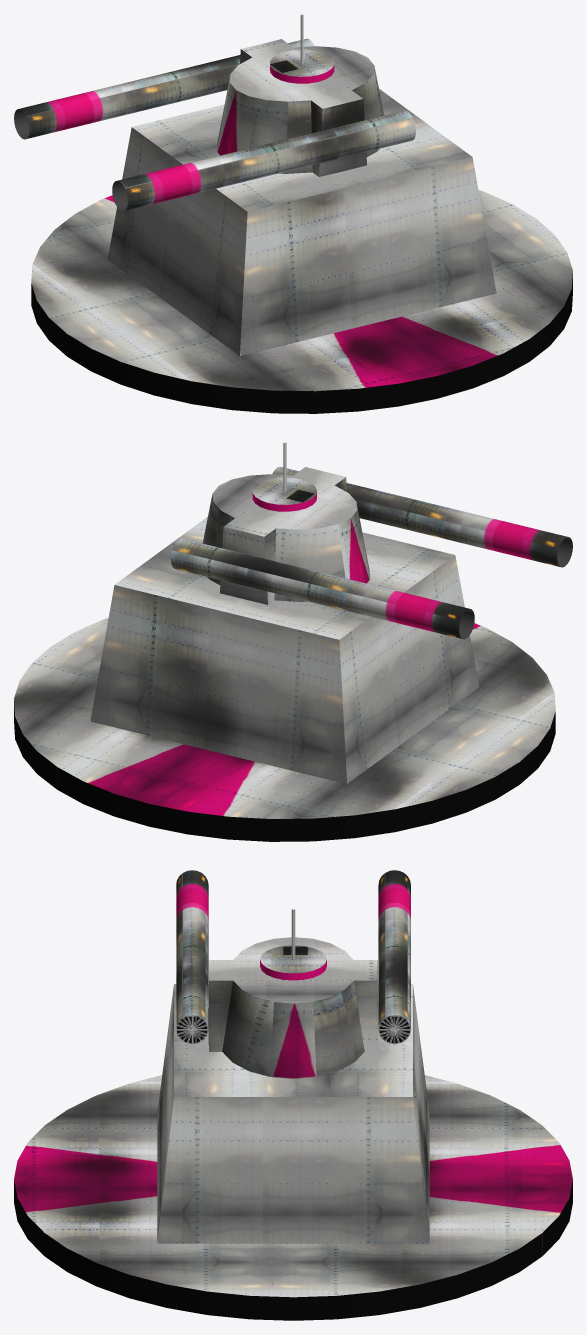
File: towerA_Pink.fbx
3 renders of one model, top to bottom at view 1: azimuth 30°, elevation 25°; view 2: azimuth 150°, elevation 25°; view 3: azimuth 270°, elevation 25°, orthographic. The views are drawn at different scales.
Visible parts, largest first — view 1: polySurface1; view 2: polySurface1; view 3: polySurface1.
Part boxes in pixels (x1,y1,x2,y2): polySurface1: (14, 14, 572, 413); polySurface1: (14, 442, 572, 841); polySurface1: (14, 870, 572, 1320).
Bounding box in the file's own units: 15.96 × 9.24 × 15.96.
1 material, 1 textured.
